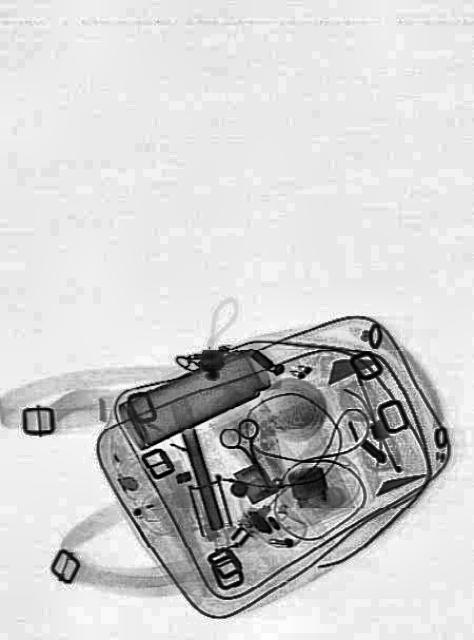Scissors: (215, 404, 282, 494)
